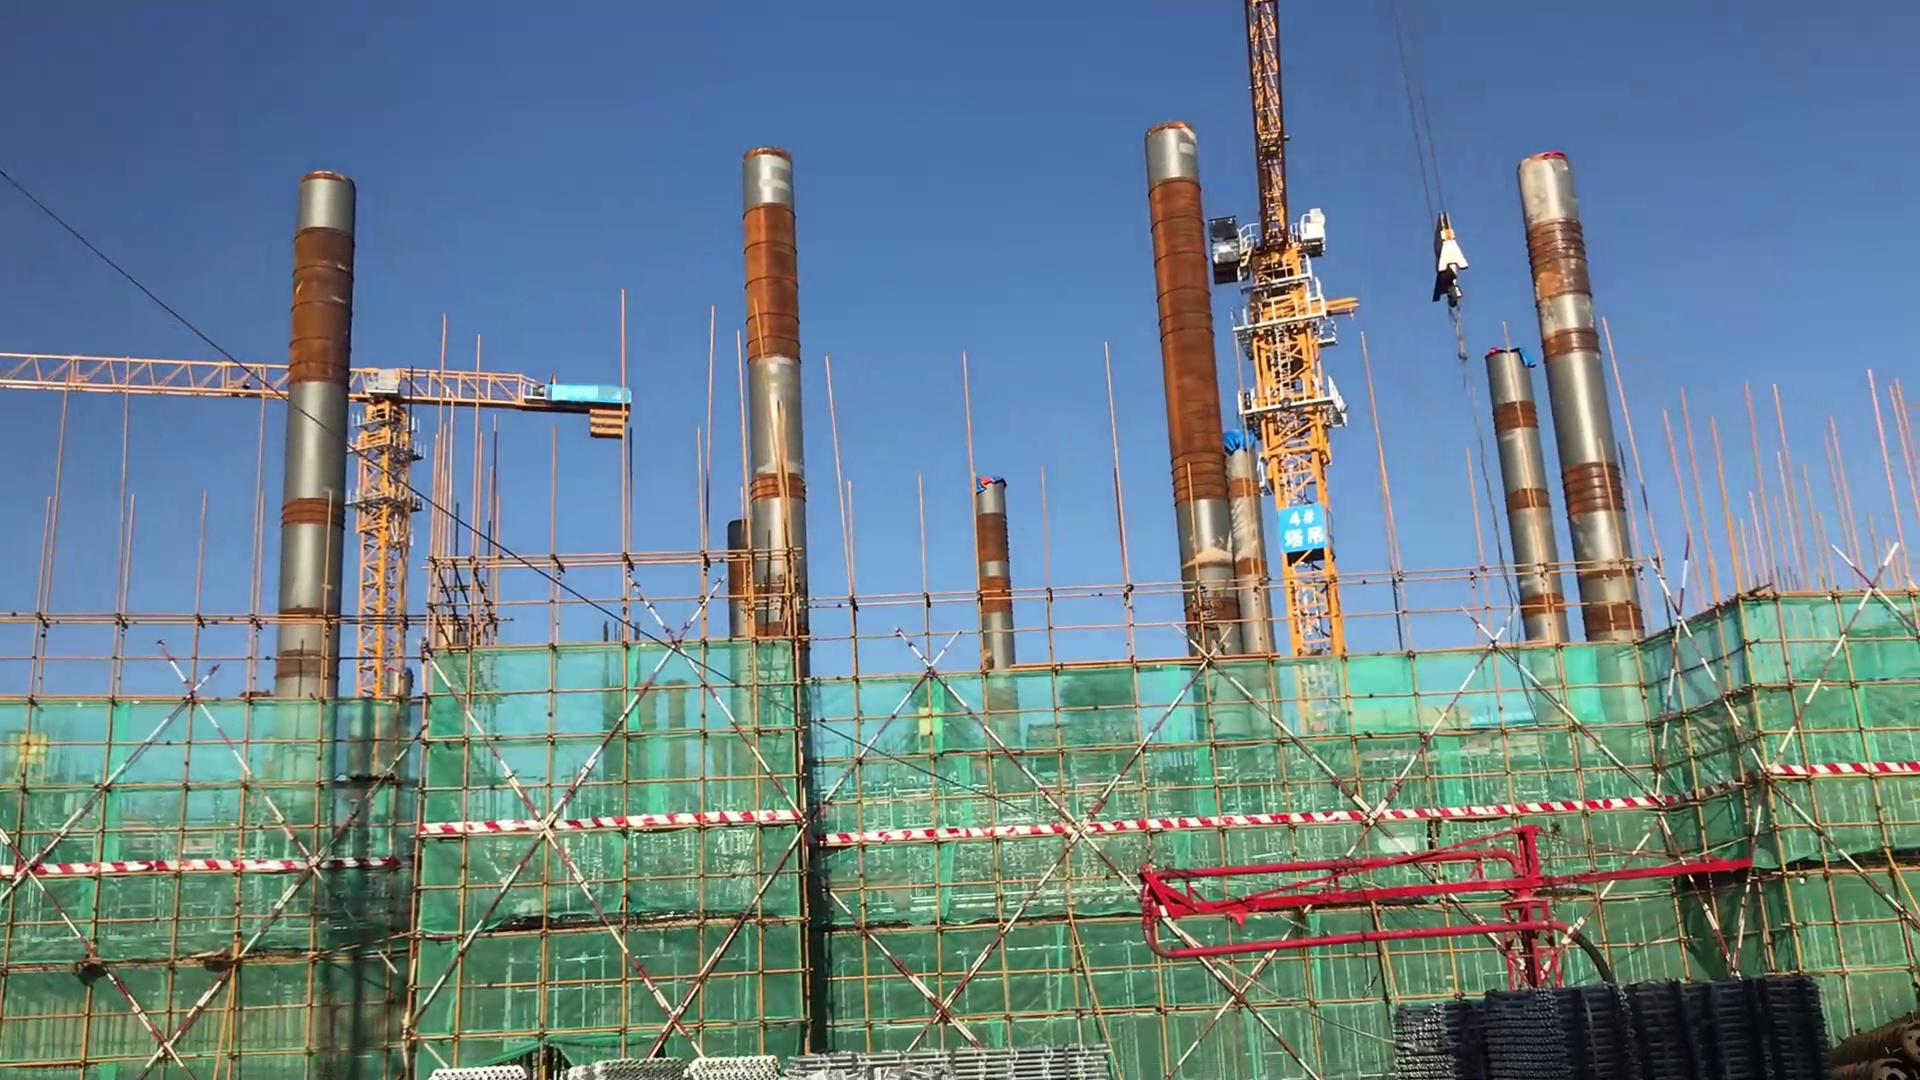hook: (1396, 208, 1491, 328)
scaffold: (1621, 961, 1836, 1079), (1379, 968, 1482, 1080), (1487, 971, 1586, 1080)
